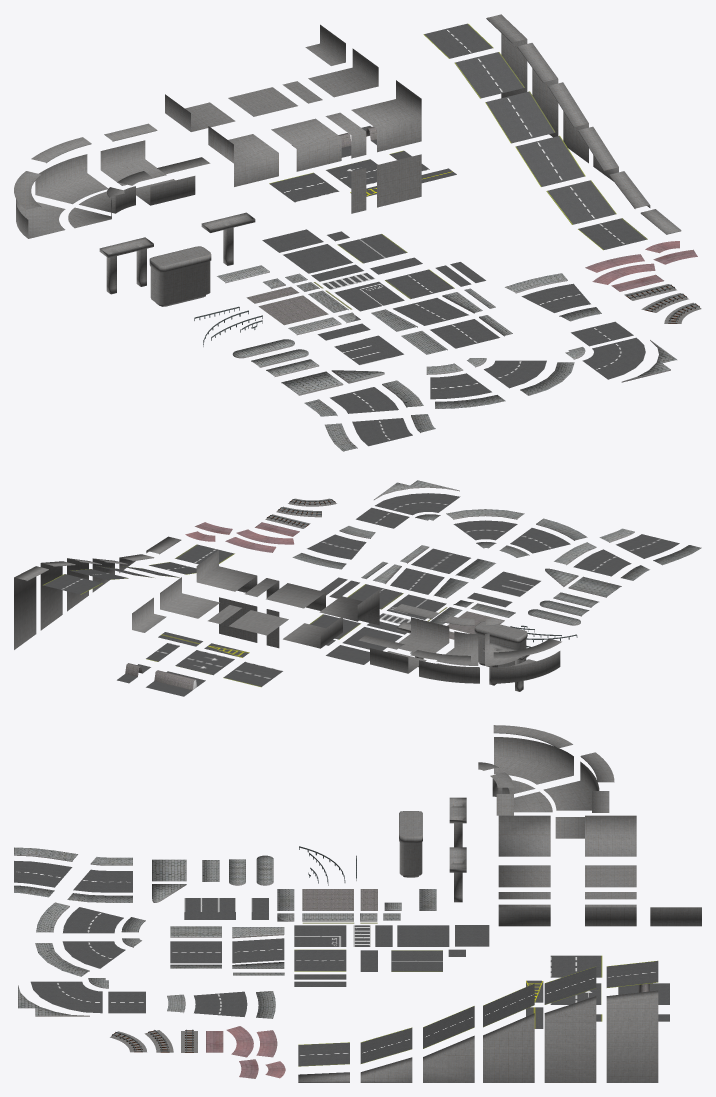
File: modular_kit_city_development.glb
The picture shows the model from 3 angles, top to bottom: view 1: azimuth 30°, elevation 25°; view 2: azimuth 150°, elevation 25°; view 3: azimuth 270°, elevation 25°; orthographic projection. The views are drawn at different scales.
Parts seen in each view (by area): view 1: Object_2; view 2: Object_2; view 3: Object_2.
Boxes of the visible parts, x1,y1,x2,y2 form: Object_2: [14, 14, 701, 451]; Object_2: [14, 480, 701, 696]; Object_2: [14, 725, 701, 1082].
Size of the model in its own units: 9.28 by 1.58 by 9.92.
Materials: 1 (1 with a texture image).
